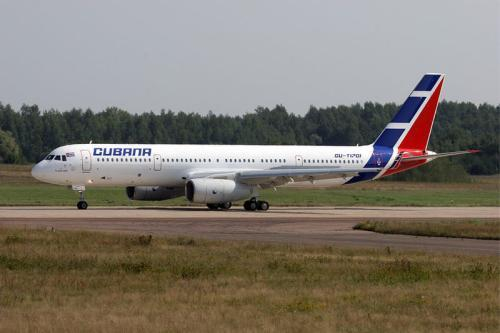airplane: (29, 72, 482, 212)
